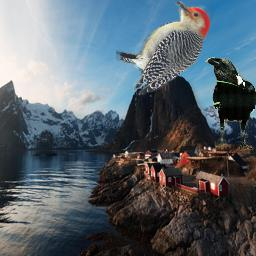Crow: (205, 57, 256, 150)
Woodpecker: (116, 1, 211, 95)
